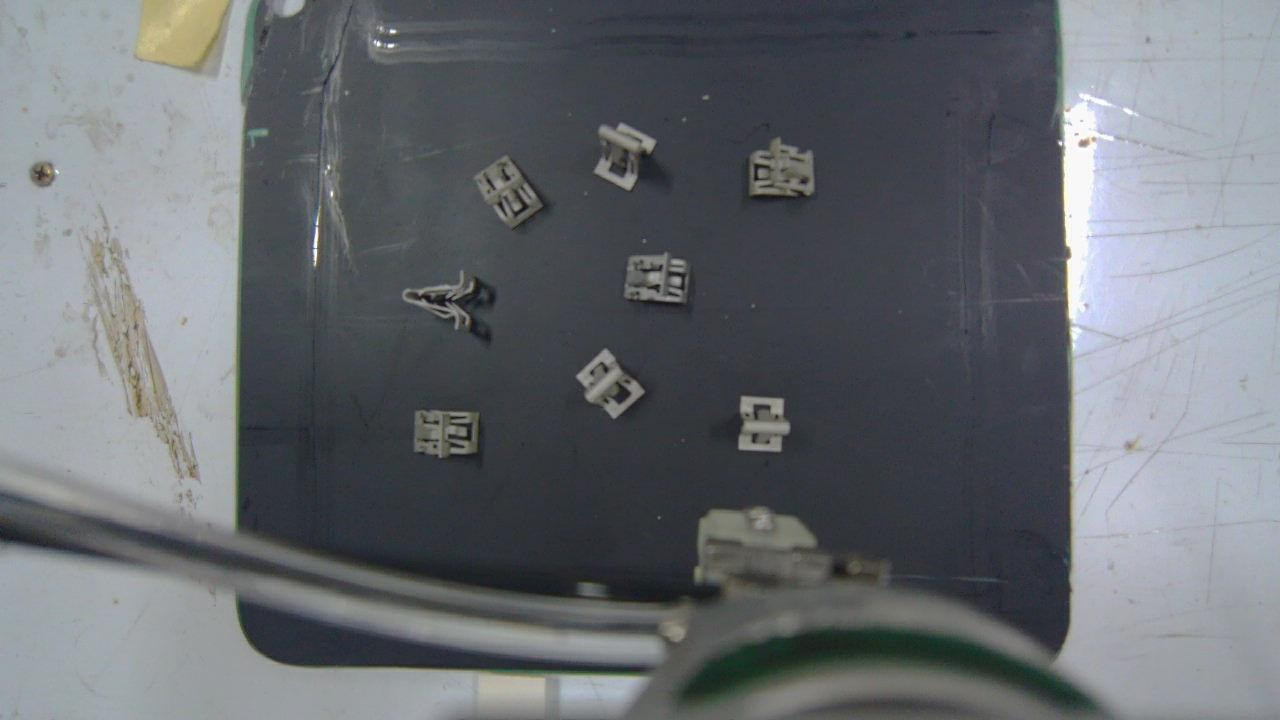ng: (473, 154, 544, 231), (592, 122, 657, 190), (403, 269, 473, 332), (749, 140, 813, 198), (622, 254, 693, 305), (415, 412, 480, 458)
pass: (575, 348, 643, 419), (741, 396, 784, 452)
